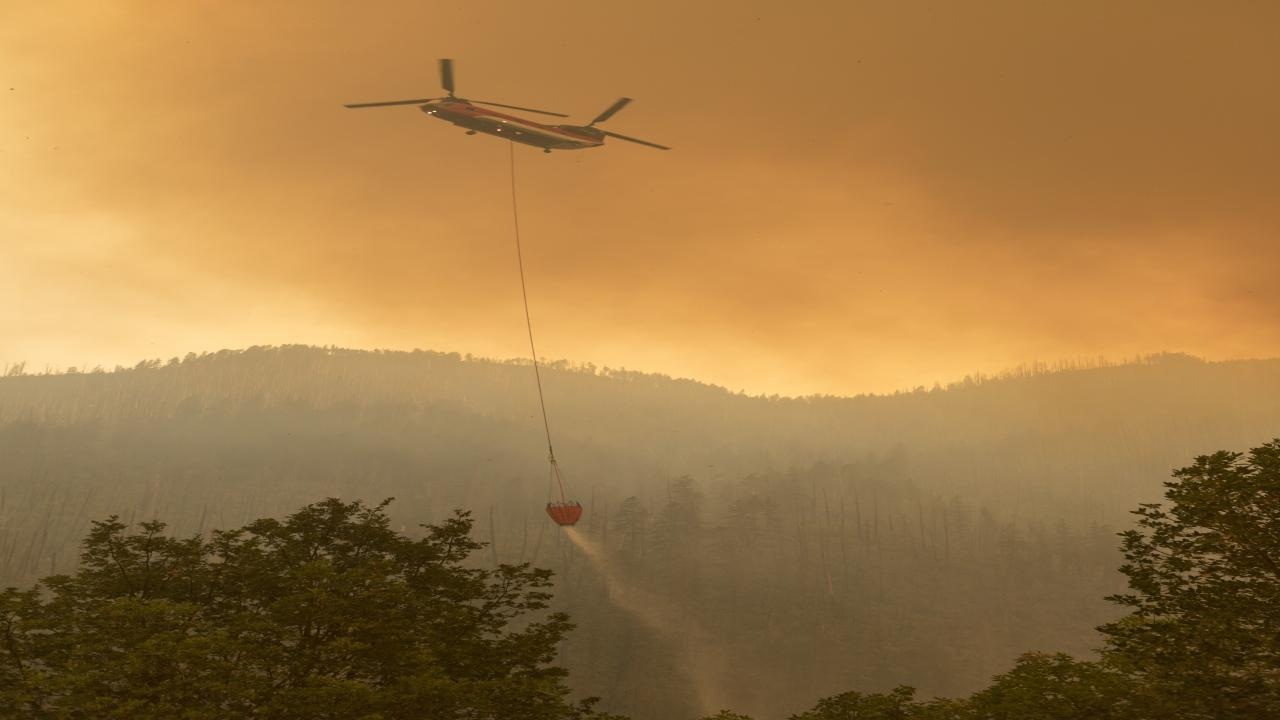Helicopter: (333, 52, 690, 164)
